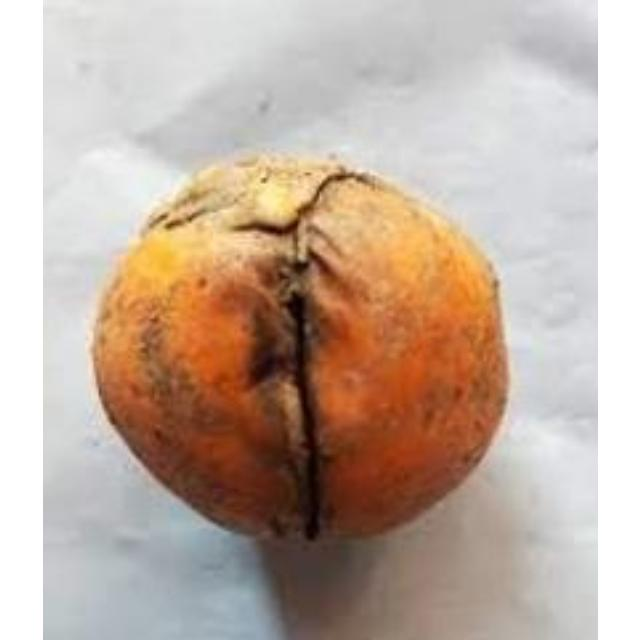damaged: (90, 151, 512, 544)
